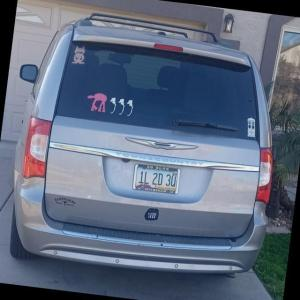Plate: (132, 163, 181, 194)
